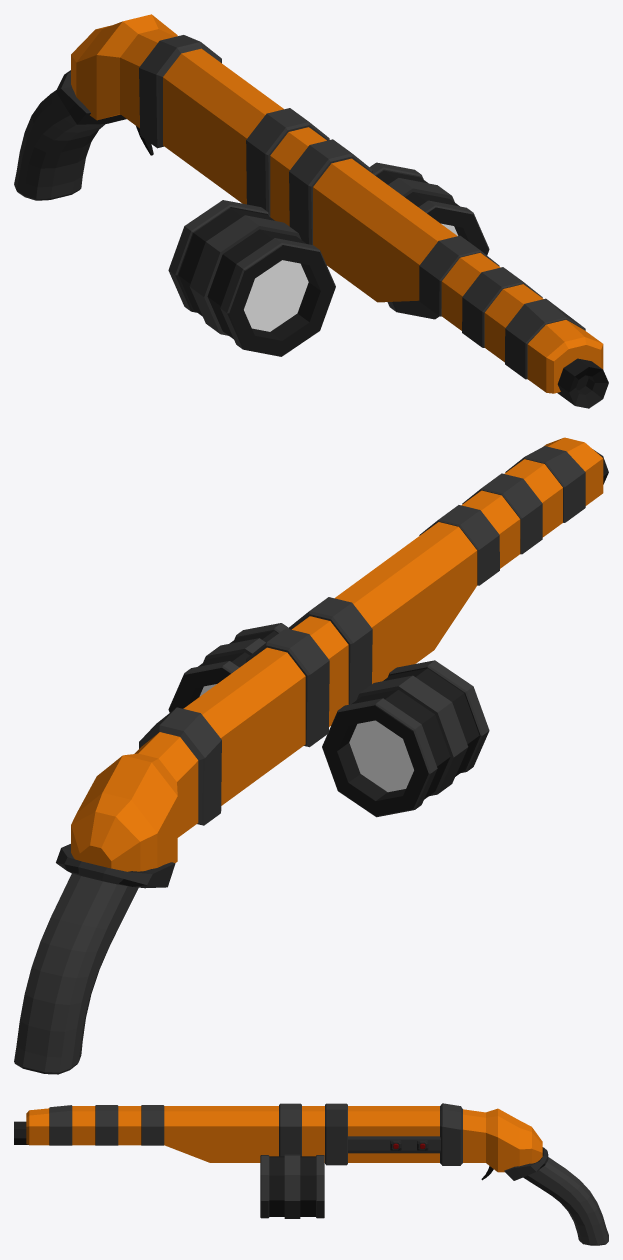
The model's file is SMG.fbx.
3 renders of one model, top to bottom at view 1: azimuth 30°, elevation 25°; view 2: azimuth 150°, elevation 25°; view 3: azimuth 270°, elevation 25°, orthographic. The views are drawn at different scales.
Parts seen in each view (by area): view 1: SMG; view 2: SMG; view 3: SMG.
Part boxes in pixels (box(x1,y1,x2,y2)): SMG: box(14, 14, 608, 408); SMG: box(14, 437, 608, 1074); SMG: box(14, 1103, 608, 1245).
Bounding box in the file's own units: 28.58 × 25.7 × 104.
